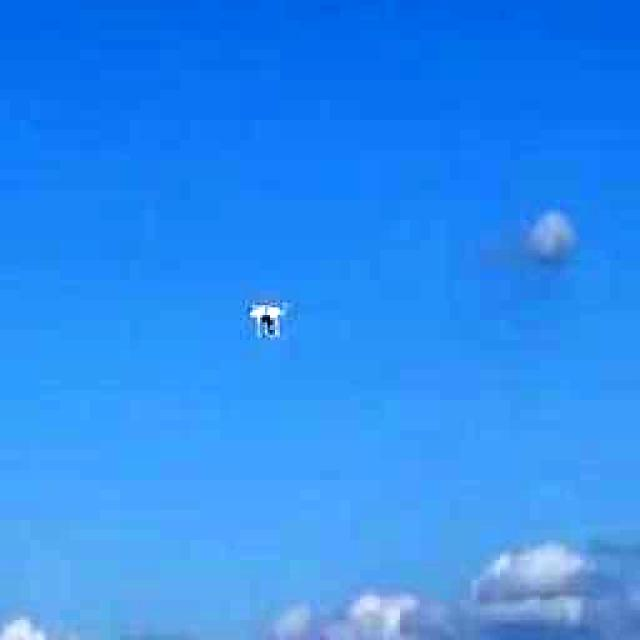bird: (232, 279, 300, 361)
